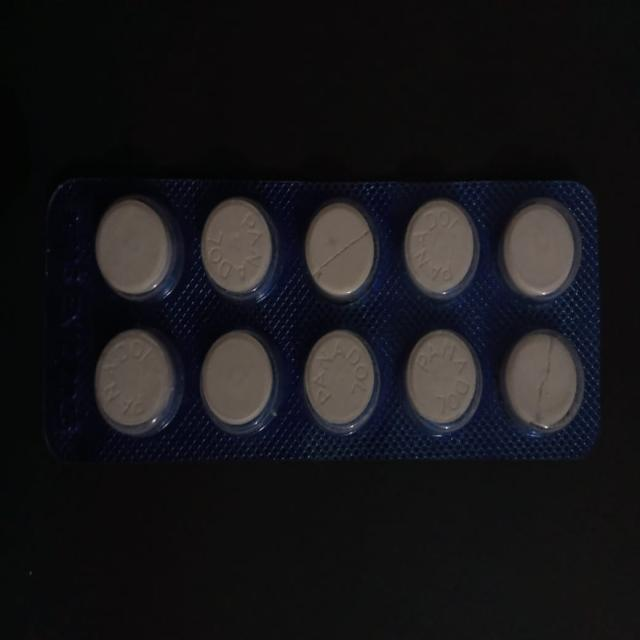defect: (502, 324, 588, 436), (304, 198, 378, 300)
